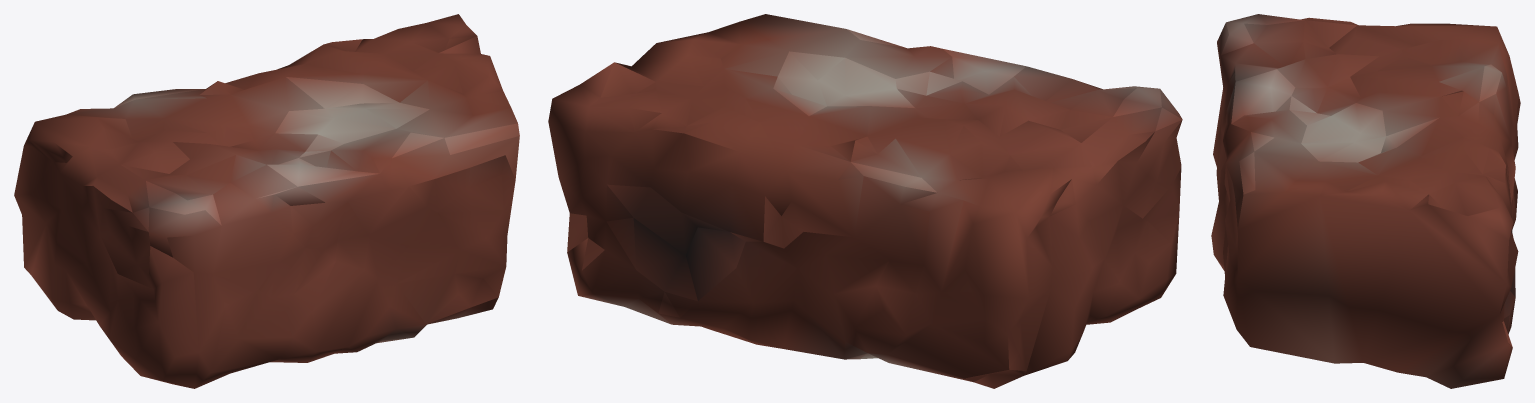
Rendered from ember_brick_chunk_c_lod1.glb.
3 renders of one model, left to right at view 1: azimuth 30°, elevation 25°; view 2: azimuth 150°, elevation 25°; view 3: azimuth 270°, elevation 25°, orthographic. The views are drawn at different scales.
Visible parts, largest first — view 1: ember_brick_chunk_c.001; view 2: ember_brick_chunk_c.001; view 3: ember_brick_chunk_c.001.
Part boxes in pixels (x1=…): ember_brick_chunk_c.001: x1=14, y1=14, x2=519, y2=388; ember_brick_chunk_c.001: x1=548, y1=14, x2=1182, y2=388; ember_brick_chunk_c.001: x1=1211, y1=14, x2=1520, y2=388.
Bounding box in the file's own units: 8.46 × 3.75 × 5.25.
